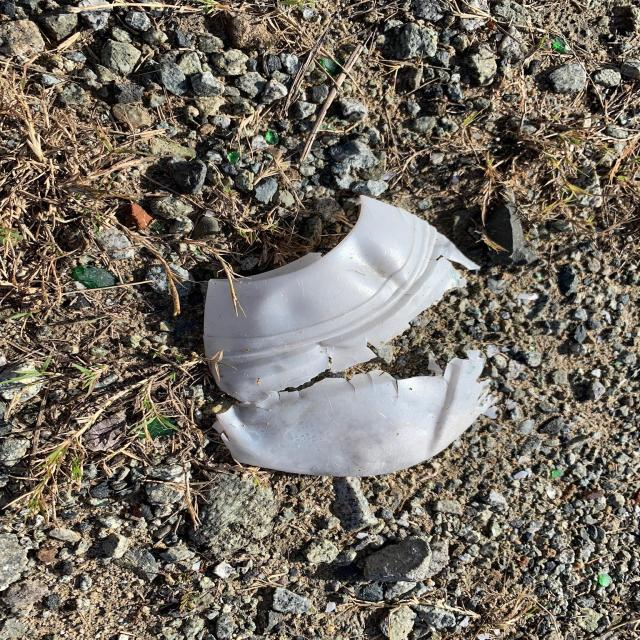litter: (204, 192, 482, 477)
